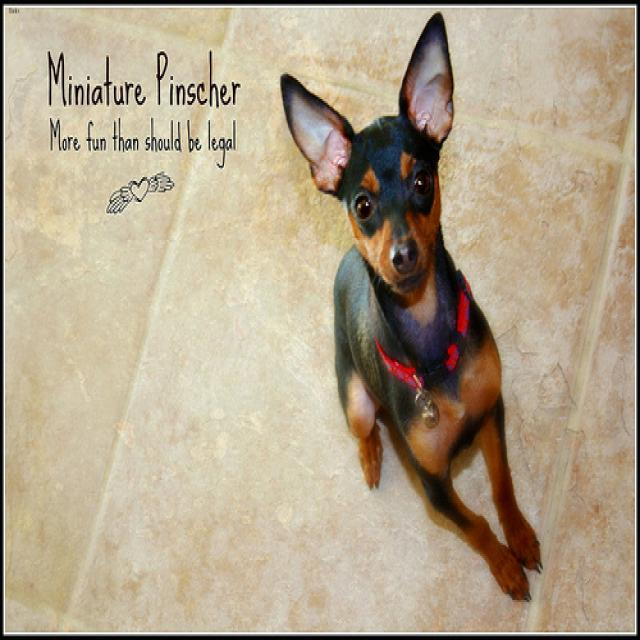dog-miniature_pinscher: (273, 8, 547, 611)
